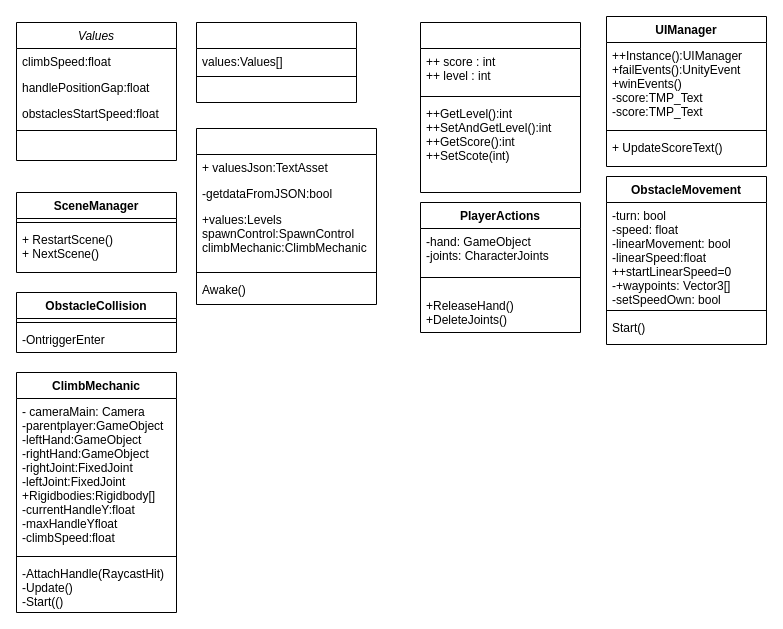
This 783x629 diagram has some shape labels left out. The box of each missing label's shape, as (x1, y1, x2, y2) in pixels:
GameManager: (420, 22, 580, 192)
Levels: (196, 22, 356, 102)
ValueReferencer: (196, 128, 376, 304)
